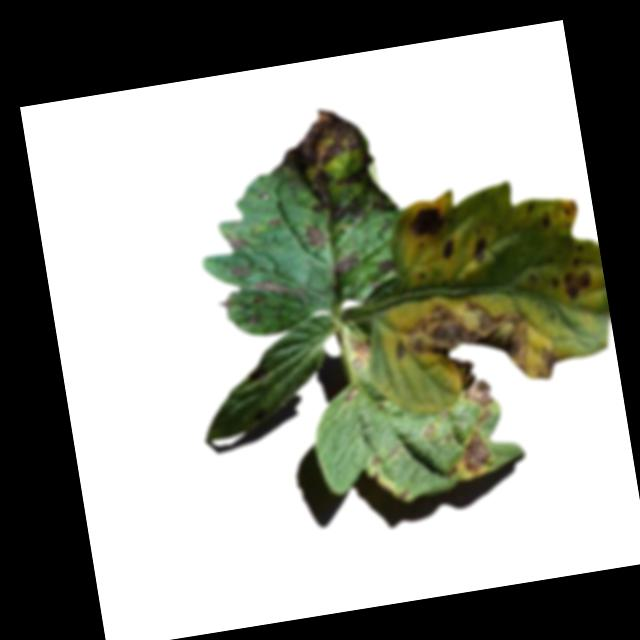Early_blight: (391, 285, 558, 398), (276, 95, 395, 226), (246, 269, 306, 310), (455, 349, 494, 409), (406, 198, 450, 237), (458, 427, 492, 475), (562, 260, 596, 298), (328, 248, 365, 277), (349, 335, 372, 370), (305, 221, 331, 251), (222, 228, 249, 253), (471, 235, 491, 263), (439, 234, 458, 261), (475, 405, 495, 426), (231, 261, 254, 278), (265, 212, 286, 229), (340, 386, 362, 400), (539, 210, 555, 229), (421, 423, 436, 439), (369, 451, 383, 468), (397, 484, 411, 500)
